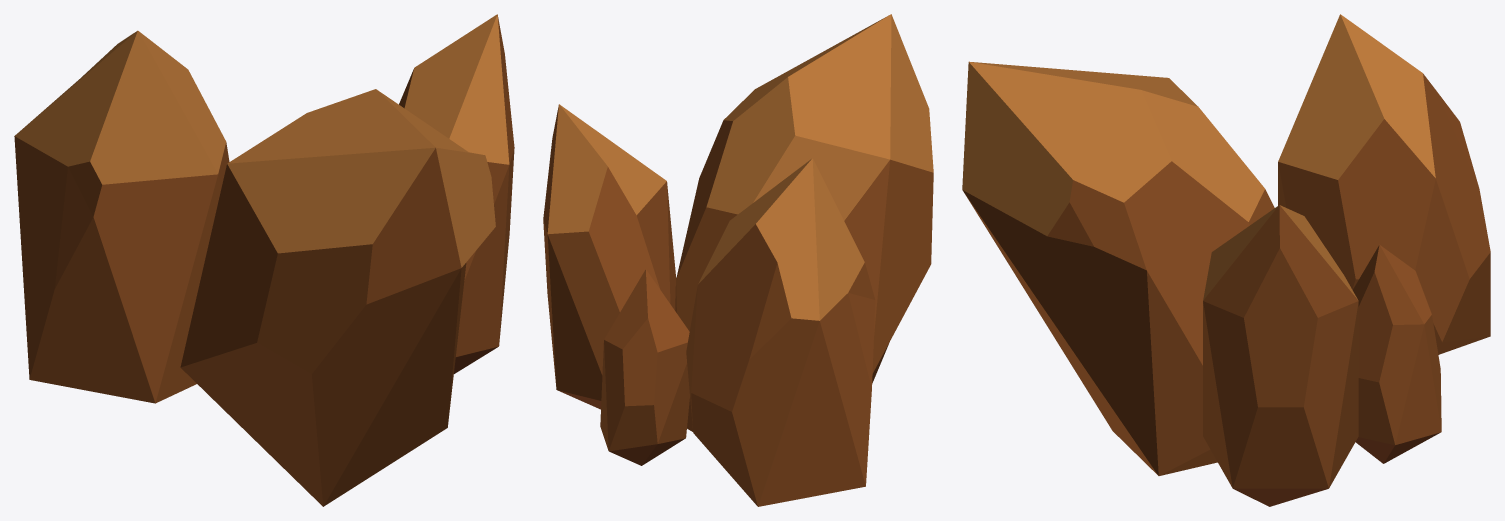
File: CopperRock2.glb
3 views of the same model, side by side, from view 1: azimuth 30°, elevation 25°; view 2: azimuth 150°, elevation 25°; view 3: azimuth 270°, elevation 25° (orthographic). The views are drawn at different scales.
Parts seen in each view (by area): view 1: CopperRock2; view 2: CopperRock2; view 3: CopperRock2.
Part boxes in pixels (x1=…): CopperRock2: x1=14, y1=14, x2=514, y2=506; CopperRock2: x1=543, y1=14, x2=933, y2=506; CopperRock2: x1=962, y1=14, x2=1490, y2=506.
Size of the model in its own units: 0.8324 by 0.7668 by 0.95.
